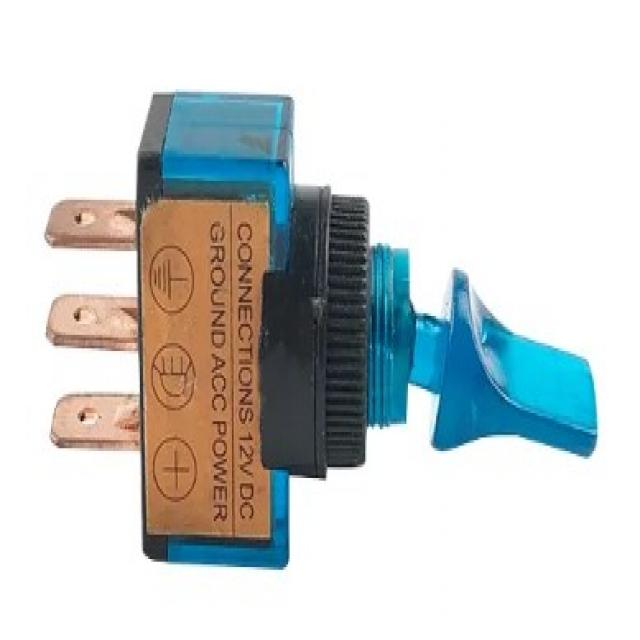toggle switch: (262, 185, 599, 482)
